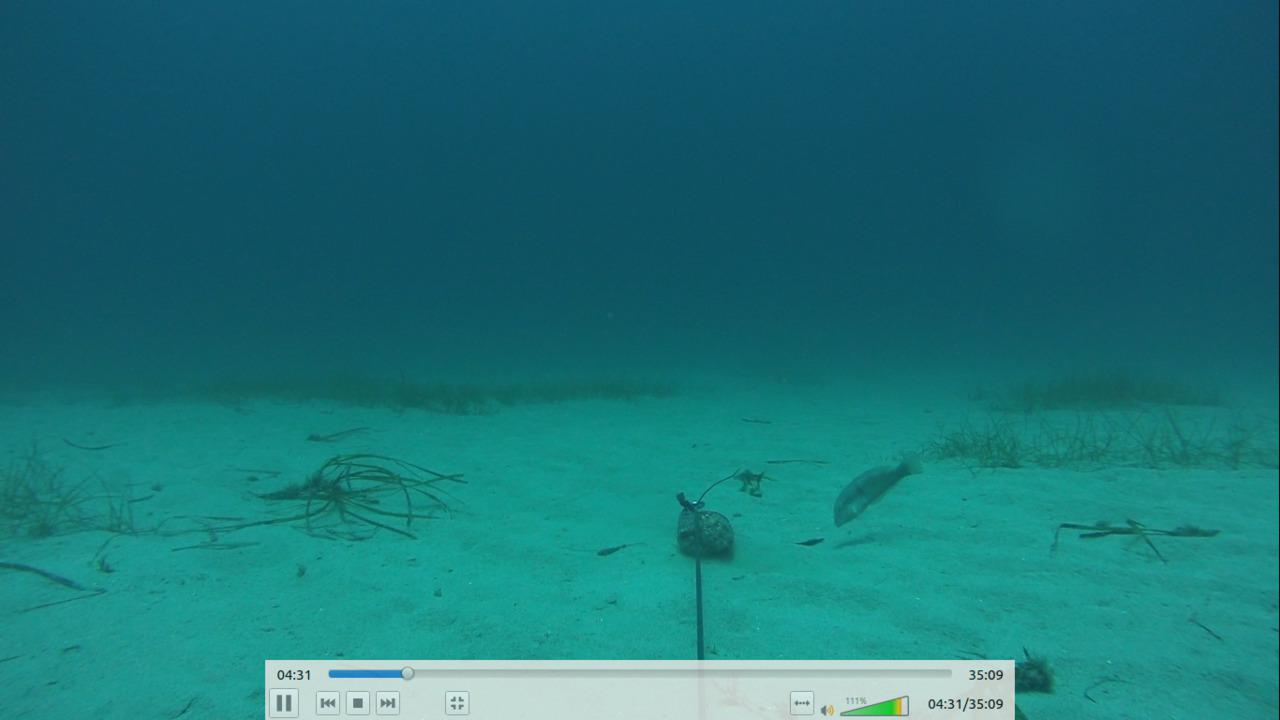raor: (826, 455, 923, 533)
